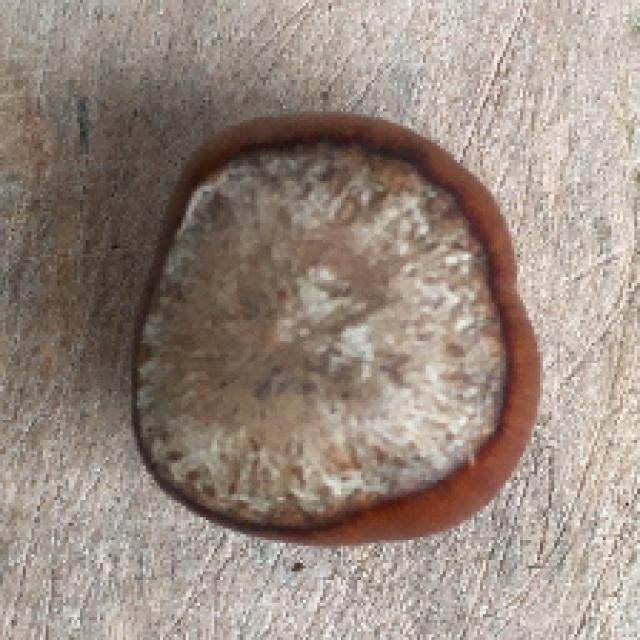qualityHazelnut: (124, 106, 544, 553)
